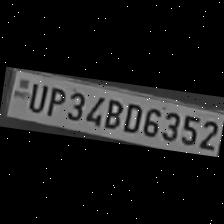2: (196, 116, 220, 152)
3: (62, 87, 85, 122), (158, 108, 180, 142)
4: (82, 92, 104, 127)
5: (176, 111, 200, 147)
6: (138, 104, 162, 139)
B: (100, 96, 122, 130)
D: (120, 100, 143, 134)
P: (42, 84, 66, 119)
U: (22, 78, 46, 114)
